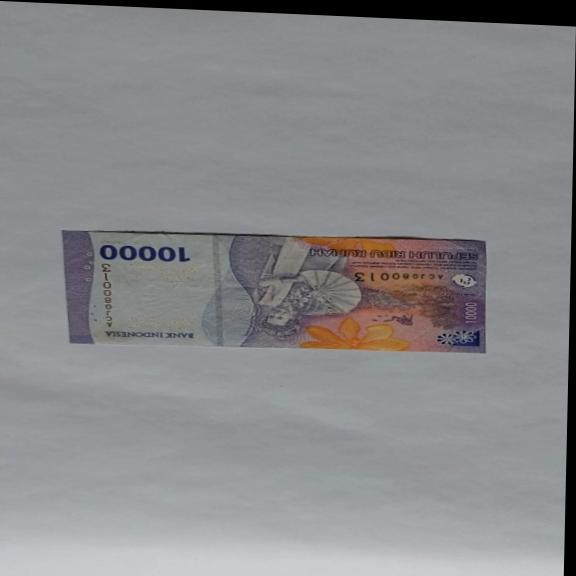Kertas: (59, 221, 489, 362)
